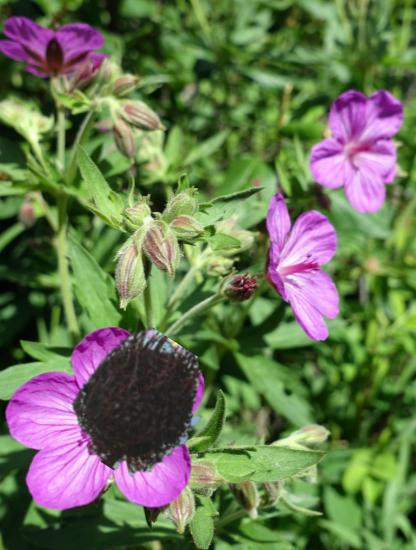Rambutan: (70, 333, 211, 474)
